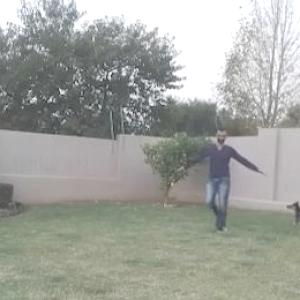land: (170, 123, 258, 228)
